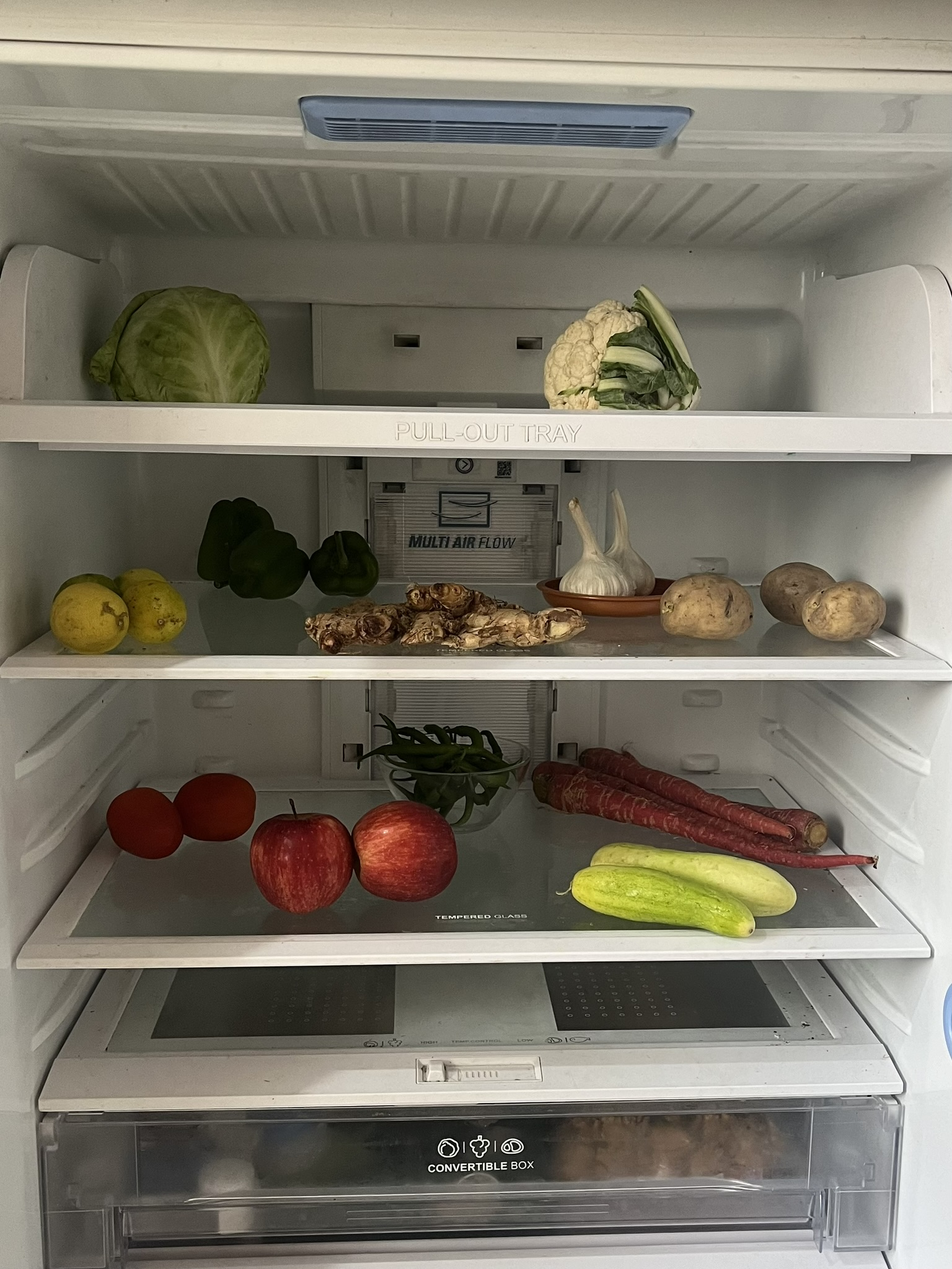apple: (255, 810, 458, 918)
cabbage: (81, 286, 272, 411)
capsicum: (195, 494, 378, 597)
carrots: (536, 746, 859, 869)
cauliflower: (543, 291, 695, 408)
chillies: (377, 719, 516, 827)
cucumber: (573, 850, 797, 935)
garlic: (562, 492, 651, 601)
ginger: (304, 579, 582, 651)
lemon: (52, 571, 208, 645)
potato: (656, 560, 888, 640)
tomato: (110, 773, 257, 855)
